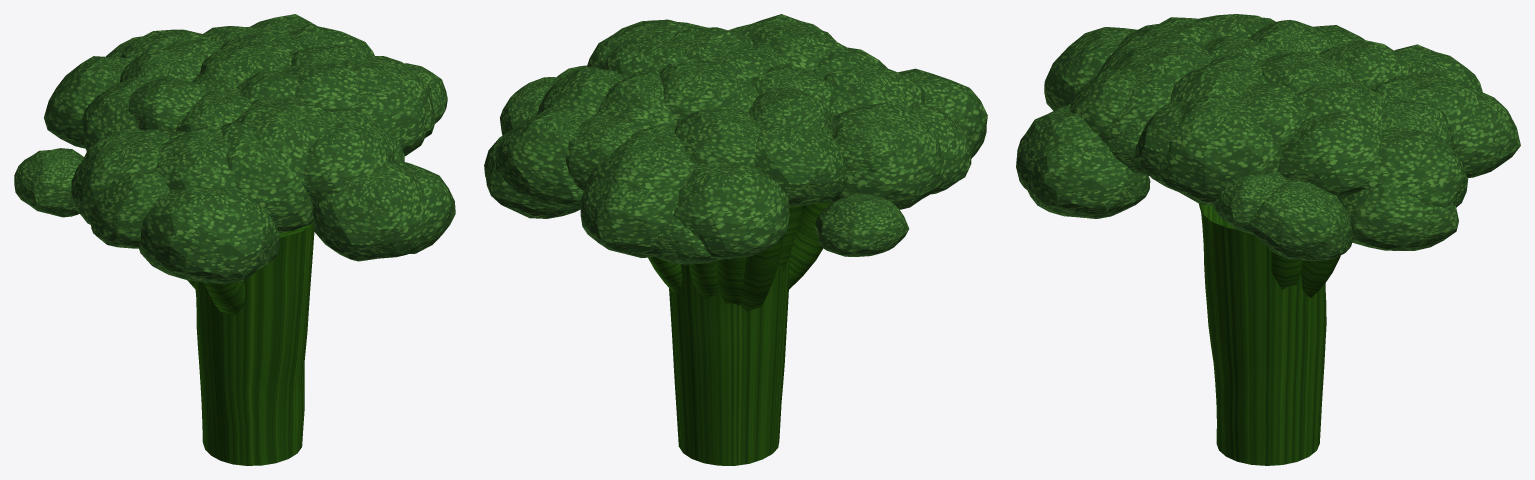
The model's file is Broccoli.glb.
The picture shows the model from 3 angles, left to right: view 1: azimuth 30°, elevation 25°; view 2: azimuth 150°, elevation 25°; view 3: azimuth 270°, elevation 25°; orthographic projection. The views are drawn at different scales.
Visible parts, largest first — view 1: Broccoli, Broccoli_Main_Stalk; view 2: Broccoli, Broccoli_Main_Stalk; view 3: Broccoli, Broccoli_Main_Stalk.
Boxes of the visible parts, <box> form: Broccoli: <box>14,14,455,315</box>; Broccoli_Main_Stalk: <box>194,222,314,465</box>; Broccoli: <box>484,14,987,311</box>; Broccoli_Main_Stalk: <box>669,255,789,465</box>; Broccoli: <box>1016,14,1520,297</box>; Broccoli_Main_Stalk: <box>1200,204,1326,465</box>.
Bounding box in the file's own units: 1.02 × 0.9232 × 1.08.
Materials: 2 (2 with a texture image).
